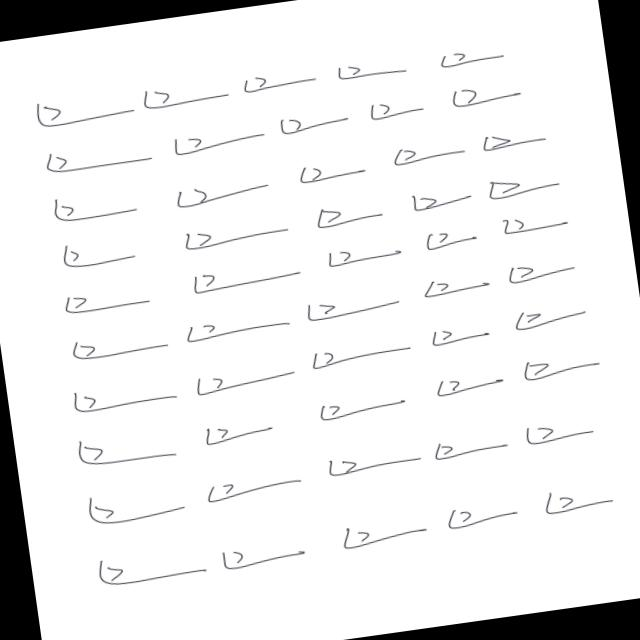Command: (25, 131, 159, 188), (85, 541, 208, 598), (178, 248, 305, 302), (25, 82, 144, 137), (59, 368, 176, 422), (163, 109, 272, 165), (173, 208, 294, 256), (298, 329, 412, 378), (59, 428, 184, 472), (76, 482, 190, 530), (514, 345, 618, 395), (202, 460, 306, 510), (184, 408, 292, 456), (174, 305, 291, 349), (52, 325, 173, 367), (51, 273, 158, 320), (532, 478, 628, 530), (43, 183, 143, 231), (320, 435, 420, 483), (186, 354, 294, 398), (210, 528, 312, 574), (391, 170, 484, 220), (223, 58, 336, 99), (331, 509, 435, 553), (430, 486, 524, 534), (516, 403, 598, 458), (170, 167, 271, 211), (472, 116, 562, 164), (308, 385, 418, 424), (298, 280, 404, 320), (501, 294, 588, 342), (136, 73, 238, 113), (491, 202, 578, 248), (332, 44, 422, 86), (49, 232, 138, 274), (268, 100, 355, 142), (388, 132, 472, 175), (448, 72, 530, 116), (308, 193, 394, 234), (502, 250, 588, 290), (430, 427, 510, 470), (483, 167, 568, 206), (357, 86, 432, 128), (298, 149, 375, 189), (431, 36, 514, 72), (426, 366, 502, 402), (414, 268, 494, 302), (424, 317, 498, 353), (314, 238, 400, 268), (414, 220, 481, 256)
